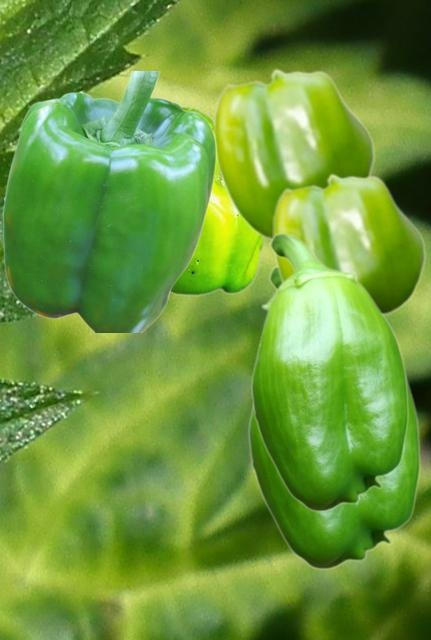bell_pepper: (2, 71, 215, 331), (247, 266, 420, 569), (250, 232, 408, 511), (213, 68, 374, 242), (272, 173, 425, 318), (171, 105, 267, 295)
